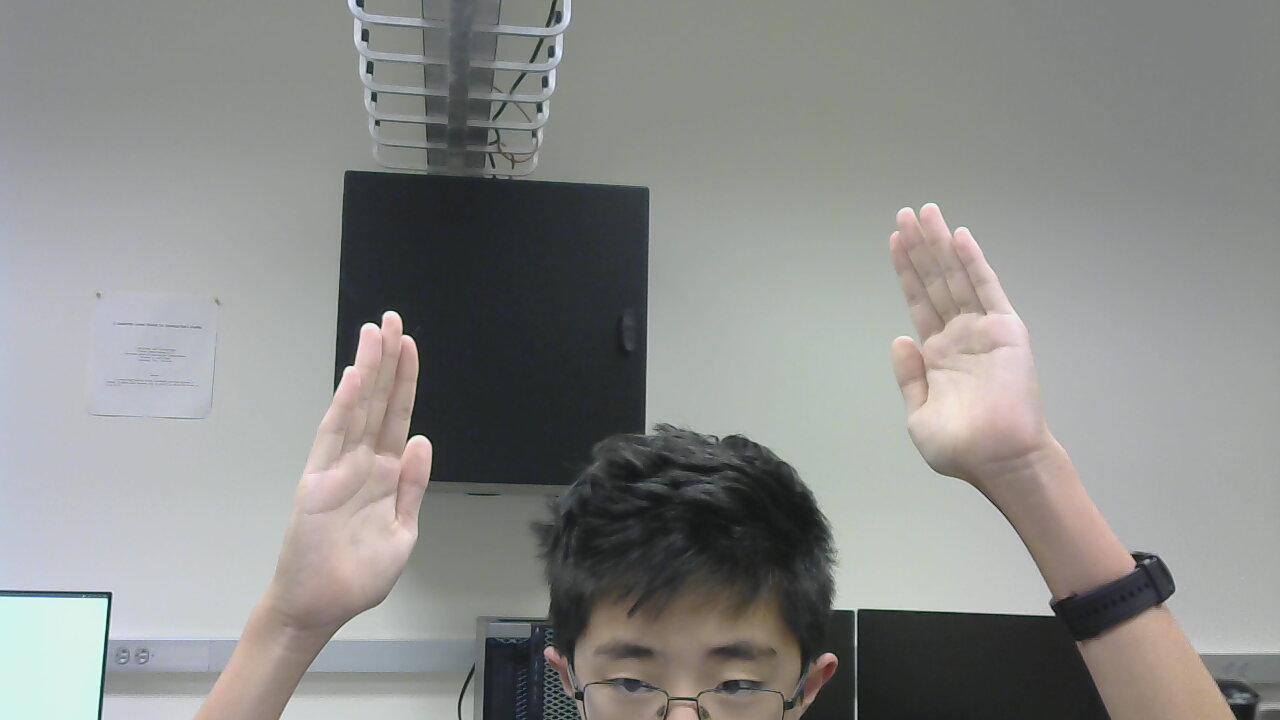hands: (877, 201, 1080, 500), (280, 303, 443, 619)
